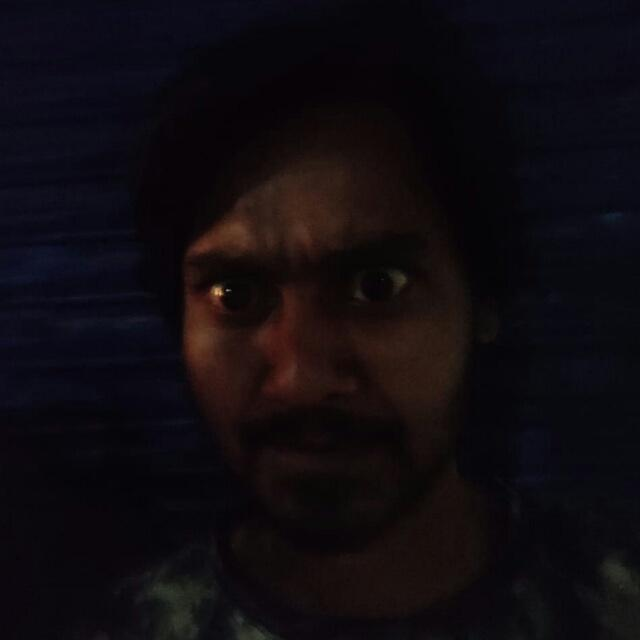angry: (142, 133, 499, 570)
